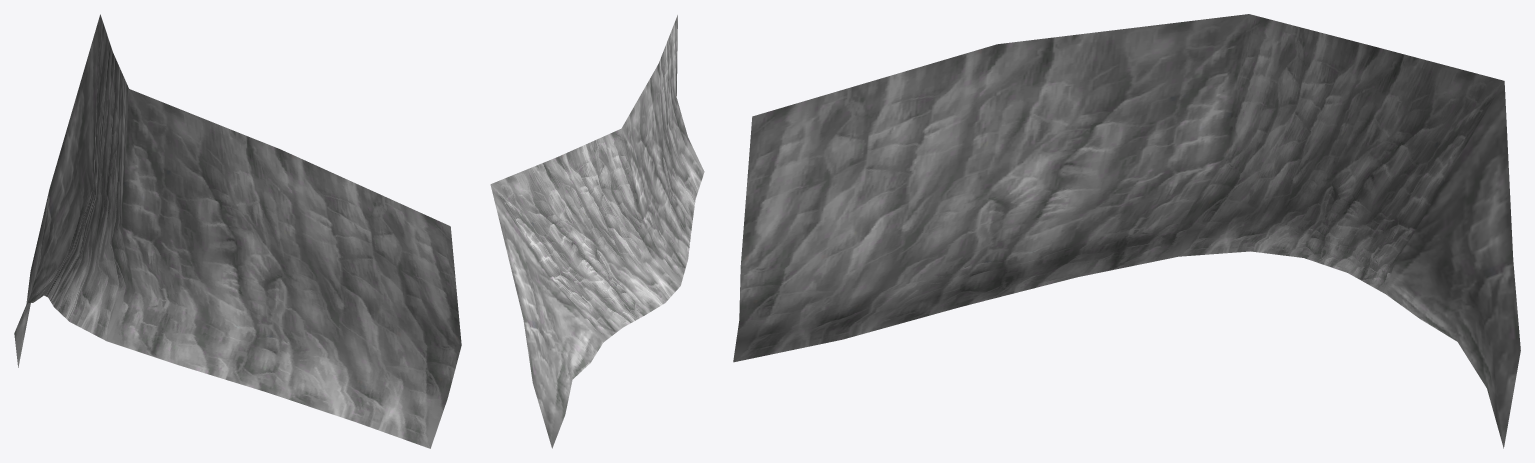
Rendered from SWORDLIGHT20_PS-AREA03_188.fbx.
3 views of the same model, side by side, from view 1: azimuth 30°, elevation 25°; view 2: azimuth 150°, elevation 25°; view 3: azimuth 270°, elevation 25° (orthographic). The views are drawn at different scales.
Parts seen in each view (by area): view 1: SWORDLIGHT20_PS-AREA03_188; view 2: SWORDLIGHT20_PS-AREA03_188; view 3: SWORDLIGHT20_PS-AREA03_188.
Part boxes in pixels (<box>): SWORDLIGHT20_PS-AREA03_188: <box>14,14,461,448</box>; SWORDLIGHT20_PS-AREA03_188: <box>490,15,704,448</box>; SWORDLIGHT20_PS-AREA03_188: <box>733,14,1520,448</box>.
Bounding box in the file's own units: 42759 × 76518 × 123759.
2 materials, 2 textured.
